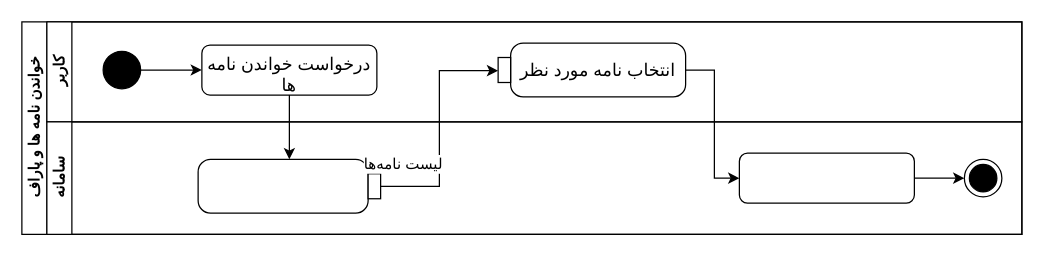
Image size: 1044x256. Some labels were removed from this diagram. Here are the shapes that lost their labels. From the top down, the centre of each, then its label:
point 289,185: ارسال لیست نامه ها به کاربر
point 826,177: نمایش اطلاعات نامه مورد نظر به کاربر
